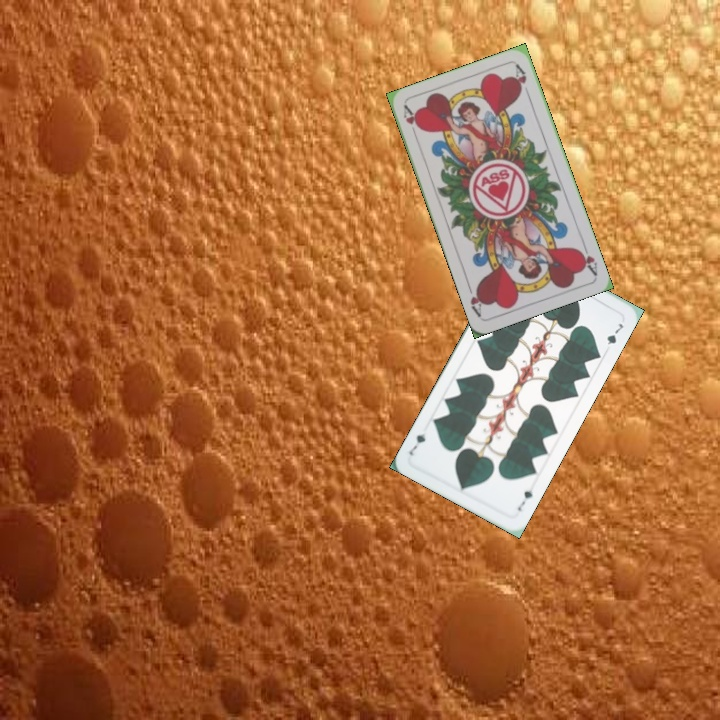G7: (513, 486, 535, 513)
HA: (574, 238, 600, 278), (399, 102, 423, 142)
